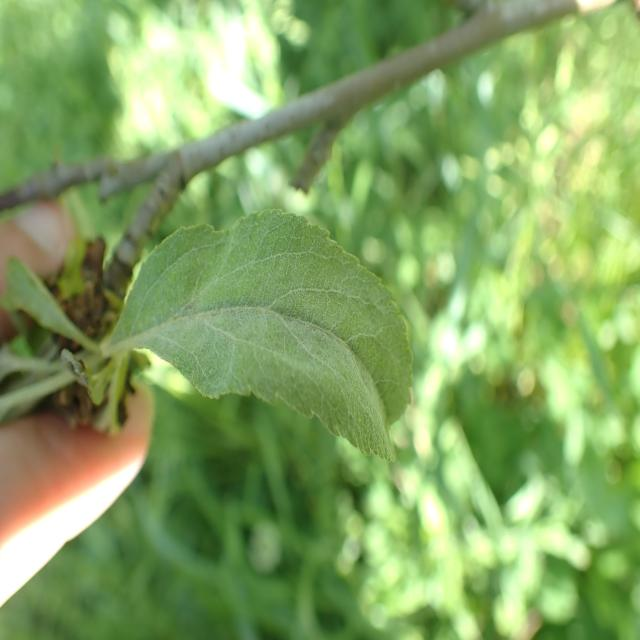Powdery_mildew: (74, 222, 424, 473)
